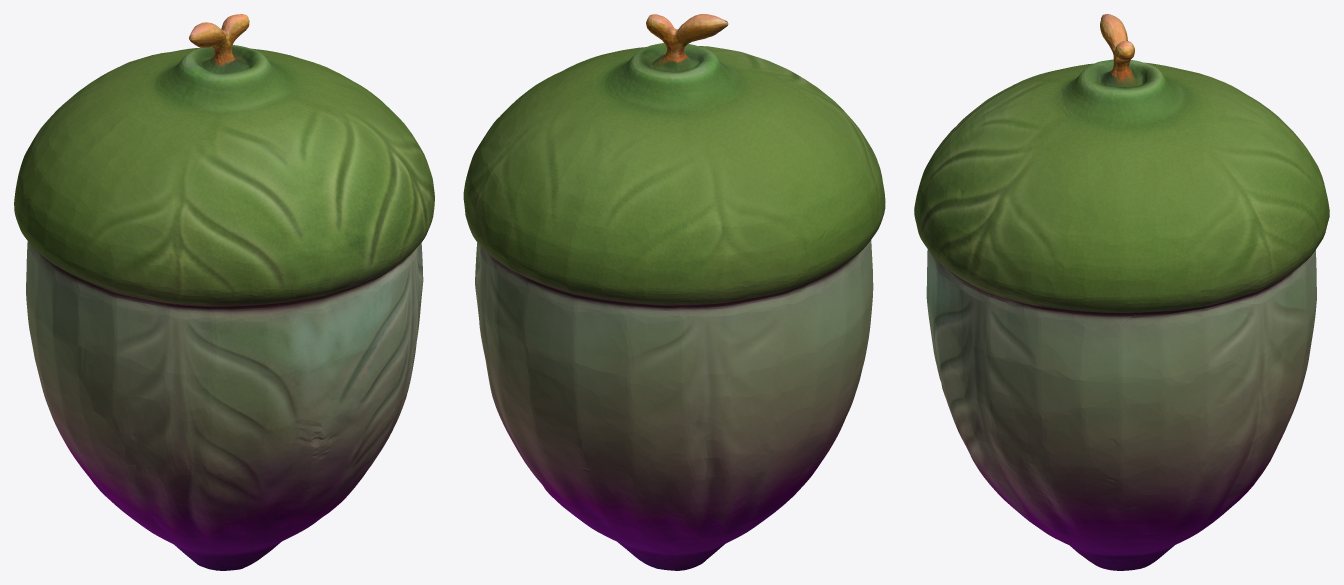
Rendered from vessel-01.glb.
3 renders of one model, left to right at view 1: azimuth 30°, elevation 25°; view 2: azimuth 150°, elevation 25°; view 3: azimuth 270°, elevation 25°, orthographic. The views are drawn at different scales.
Parts seen in each view (by area): view 1: tmpy0w1824s.ply; view 2: tmpy0w1824s.ply; view 3: tmpy0w1824s.ply.
Part boxes in pixels (x1,y1,x2,y2): tmpy0w1824s.ply: (14,14,434,570); tmpy0w1824s.ply: (463,14,885,570); tmpy0w1824s.ply: (914,14,1329,570).
Size of the model in its own units: 1.4 by 1.99 by 1.42.
Materials: 1 (1 with a texture image).
